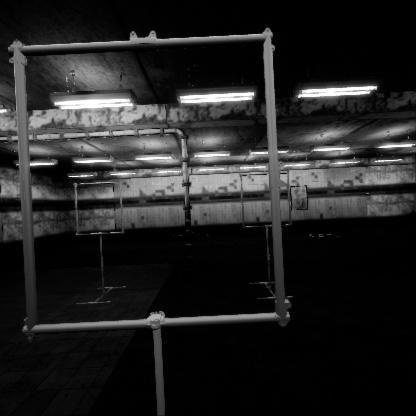gate: (16, 78, 310, 382), (240, 186, 296, 244), (74, 179, 128, 235)
